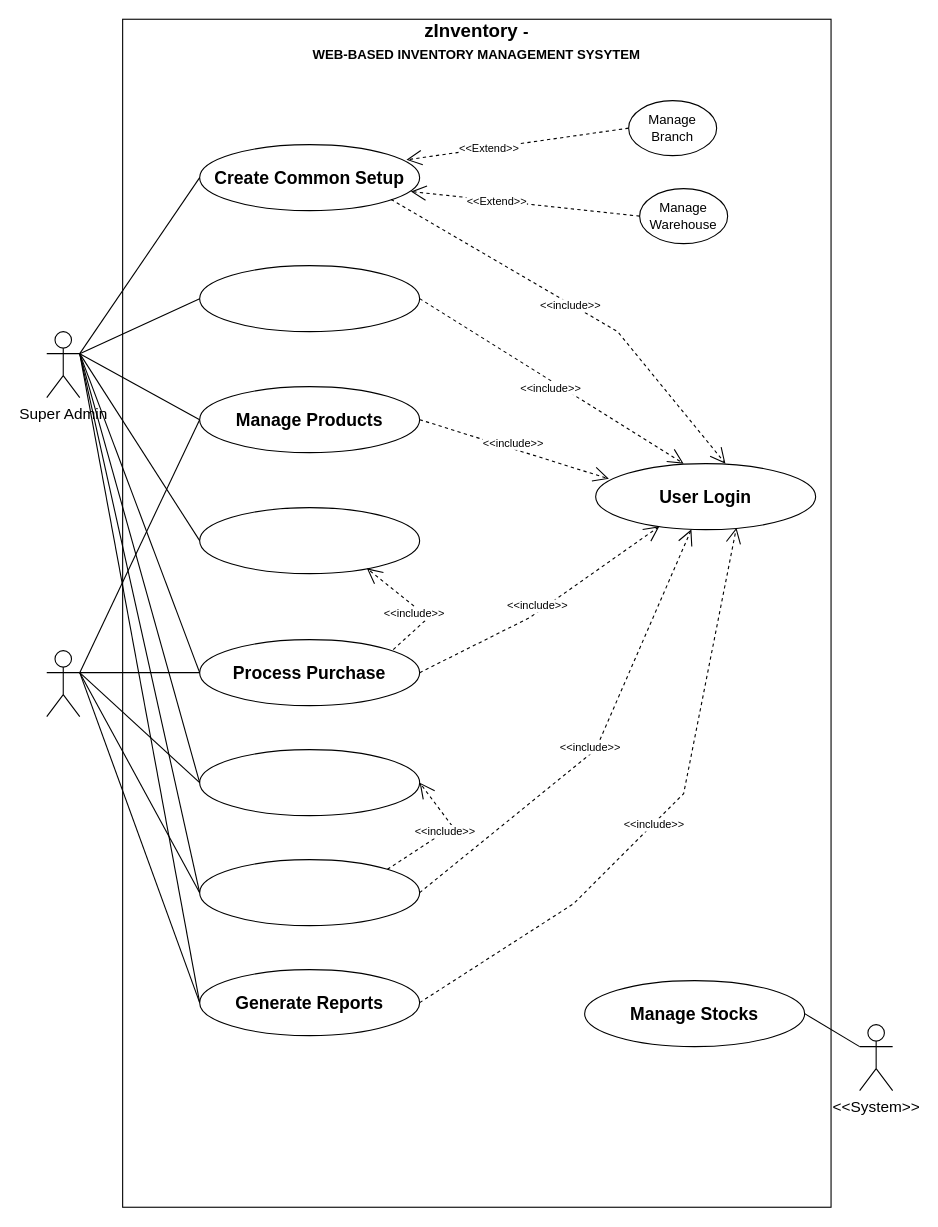
The diagram is 938 pixels wide and 1227 high, and some of its shapes have lost their labels. Each missing label, with the centre of its shape:
"Manage Customer" goes at point (309, 782).
"Manage System User" goes at point (309, 298).
"Manage Vendors" goes at point (309, 540).
"Process Sales" goes at point (309, 892).
"System User" goes at point (63, 683).
